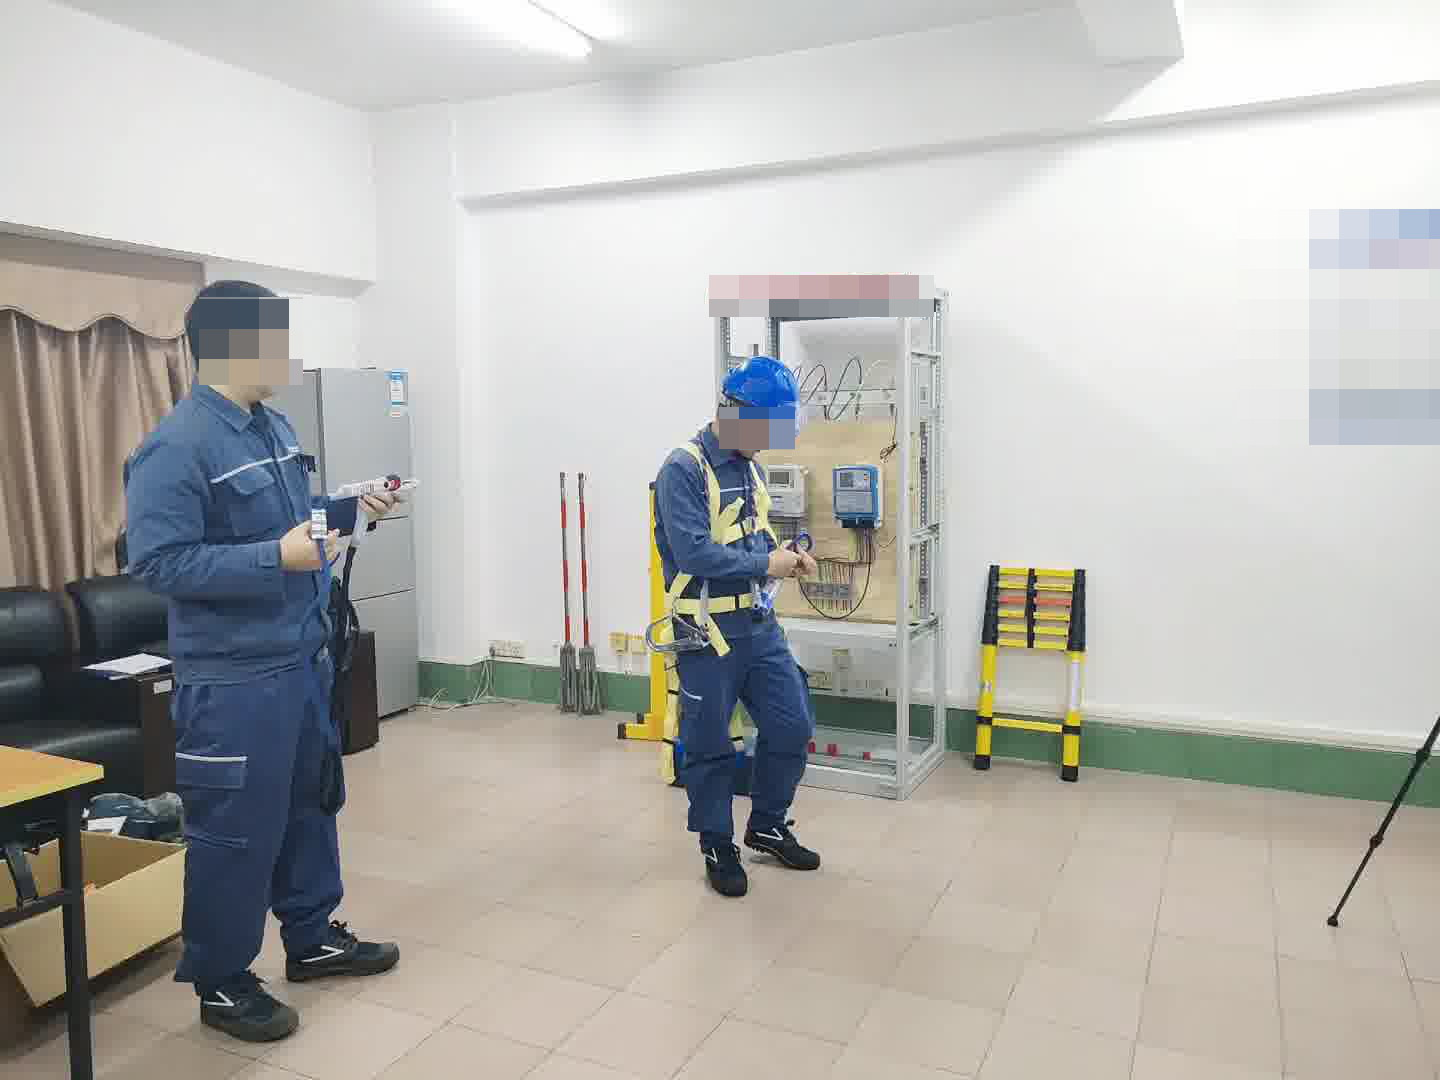downsuit: (171, 690, 349, 984), (672, 634, 814, 842)
halt: (185, 280, 298, 399), (717, 357, 800, 454)
hand: (283, 520, 338, 574), (765, 537, 795, 574)
inear: (722, 402, 754, 448)
noear: (206, 324, 281, 388)
person: (114, 273, 401, 1038), (650, 355, 827, 890)
safebelt: (643, 438, 790, 818)
upsuit: (118, 387, 343, 673), (654, 428, 778, 611)
